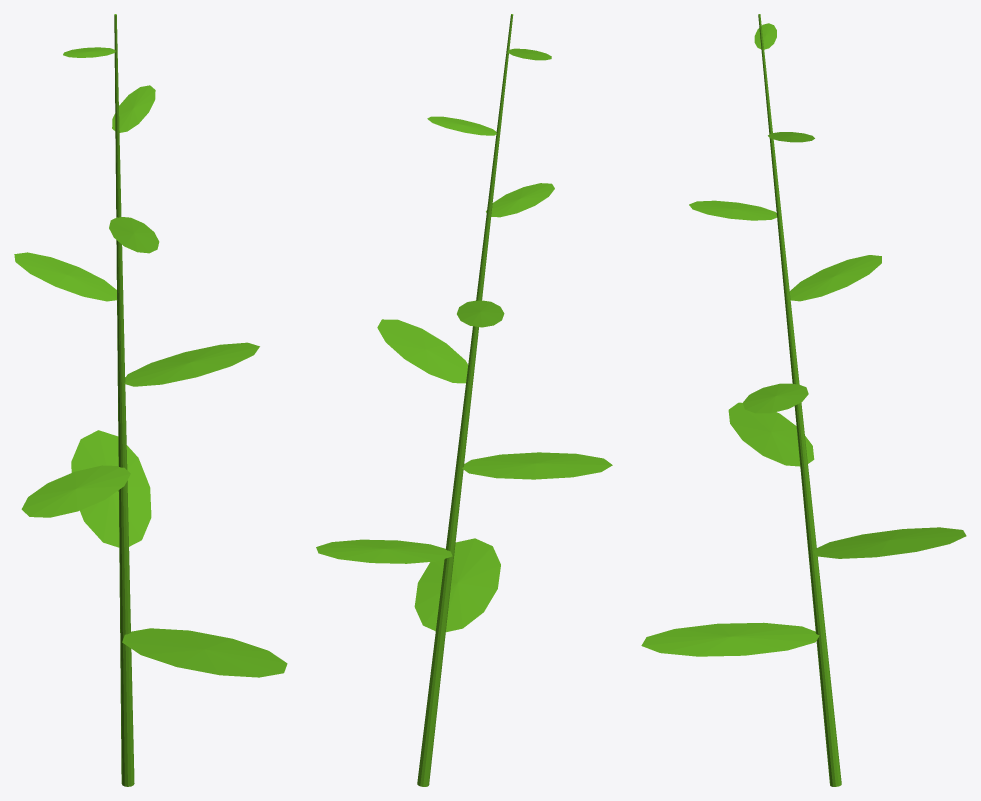
3 renders of one model, left to right at view 1: azimuth 30°, elevation 25°; view 2: azimuth 150°, elevation 25°; view 3: azimuth 270°, elevation 25°, orthographic. The views are drawn at different scales.
Visible parts, largest first — view 1: tree; view 2: tree; view 3: tree.
Boxes of the visible parts, x1=… form: tree: x1=14, y1=14, x2=287, y2=786; tree: x1=316, y1=14, x2=612, y2=786; tree: x1=641, y1=14, x2=966, y2=786.
Size of the model in its own units: 0.1328 by 0.17 by 0.4304.
